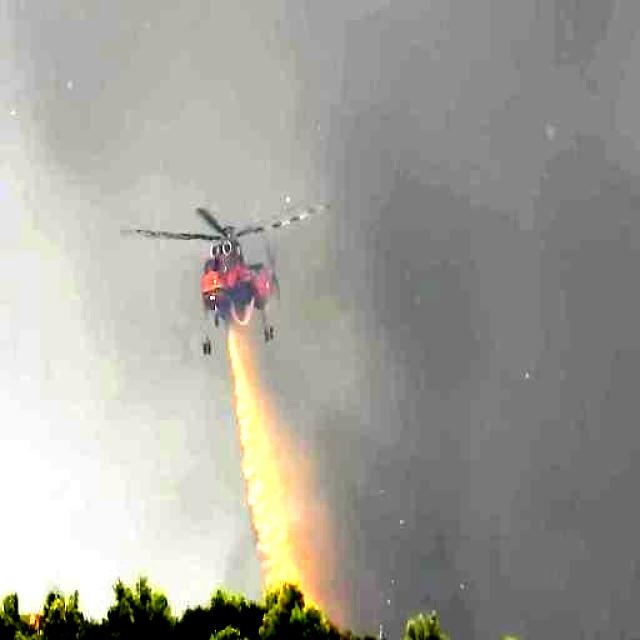drone: (119, 199, 341, 355)
